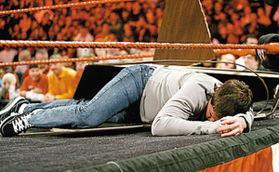Fall-Detected: (4, 55, 263, 136)
